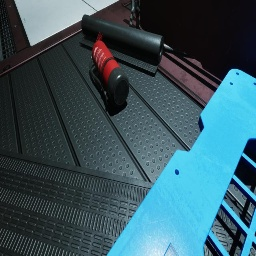FireExtinguisher ]: (89, 31, 129, 107)
